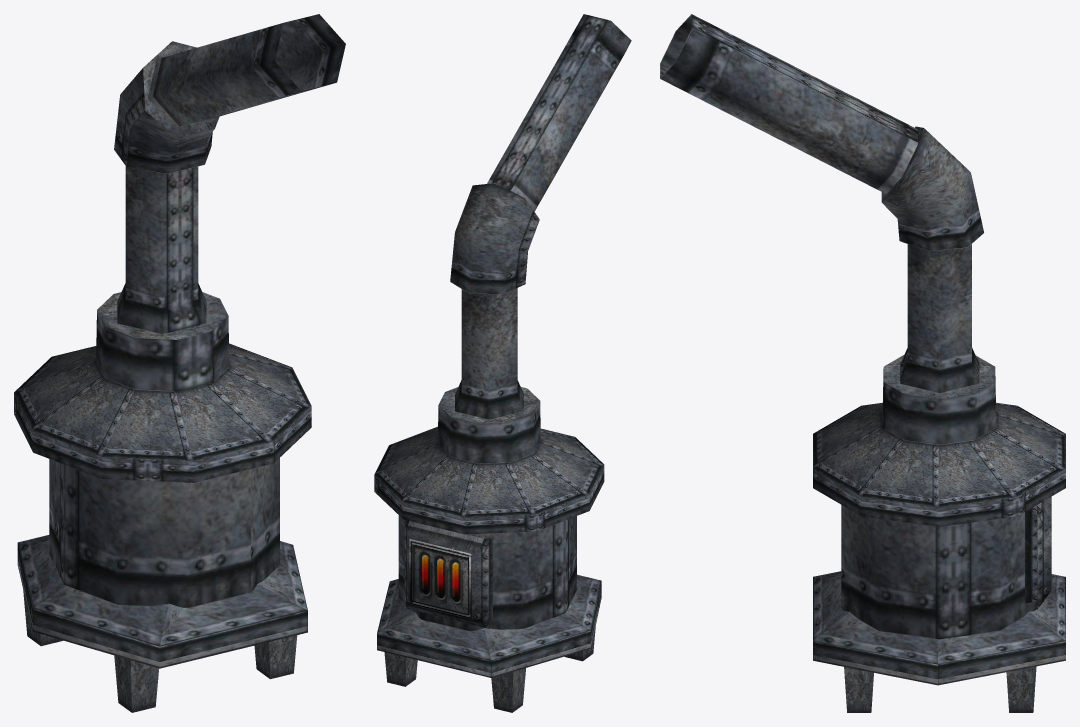
Rendered from INST_LT_STOVE.fbx.
3 renders of one model, left to right at view 1: azimuth 30°, elevation 25°; view 2: azimuth 150°, elevation 25°; view 3: azimuth 270°, elevation 25°, orthographic. The views are drawn at different scales.
Parts seen in each view (by area): view 1: INST_LT_STOVE; view 2: INST_LT_STOVE; view 3: INST_LT_STOVE.
Boxes of the visible parts, box(x1,y1,x2,y2) form: INST_LT_STOVE: box(14, 14, 345, 712); INST_LT_STOVE: box(374, 14, 631, 712); INST_LT_STOVE: box(660, 14, 1065, 712).
Bounding box in the file's own units: 7698 × 20886 × 11698.
2 materials, 2 textured.
